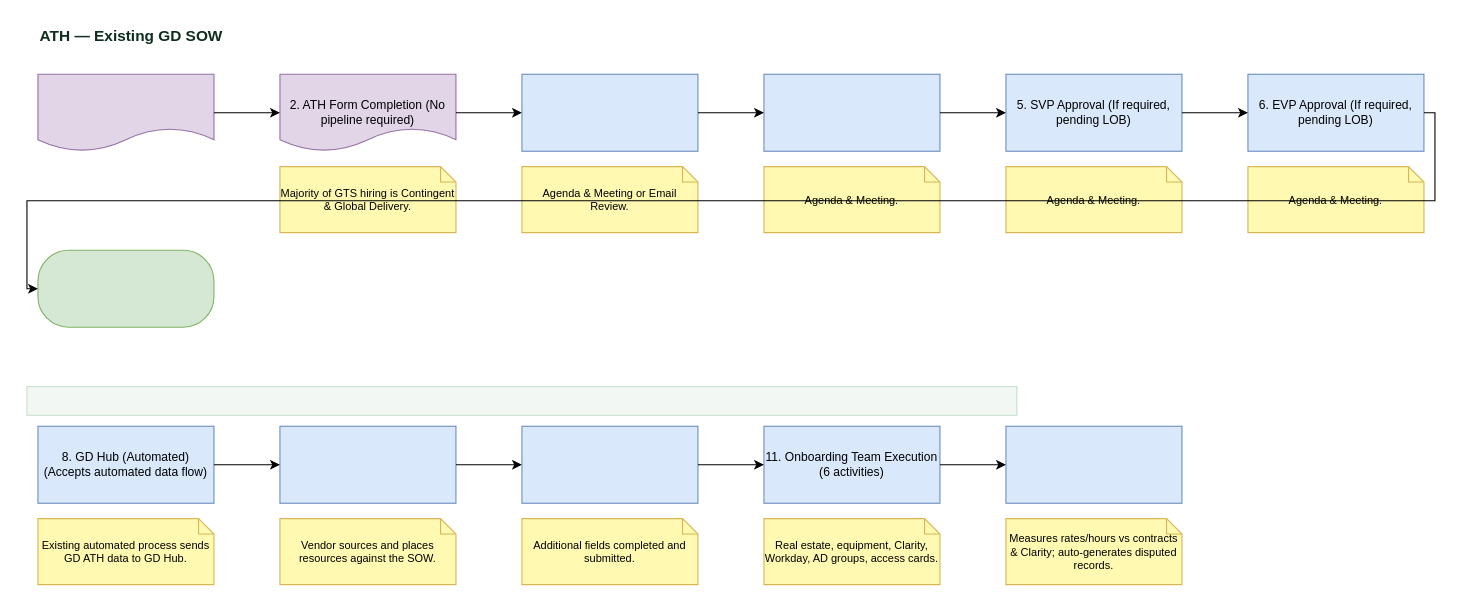
The diagram is 1463 pixels wide and 604 high, and some of its shapes have lost their labels. The shapes that lost their labels are listed below. From the top down, each one's centre as x and y in pixels, then its label:
At pixel 125 112: "1. EMS Intake Triage (User enters EMS)".
At pixel 609 112: "3. AVP Approval".
At pixel 851 112: "4. VP Approval".
At pixel 125 288: "7. SPID Record Closed".
At pixel 521 400: "PHASE: Automated Downstream Execution".
At pixel 367 464: "9. Vendor Sourcing (Outside application scope)".
At pixel 609 464: "10. Onboarding Record Creation (ATH# carried forward, locked)".
At pixel 1093 464: "12. Invoicing Team (Automated) (Validates vs TD inventory)".
